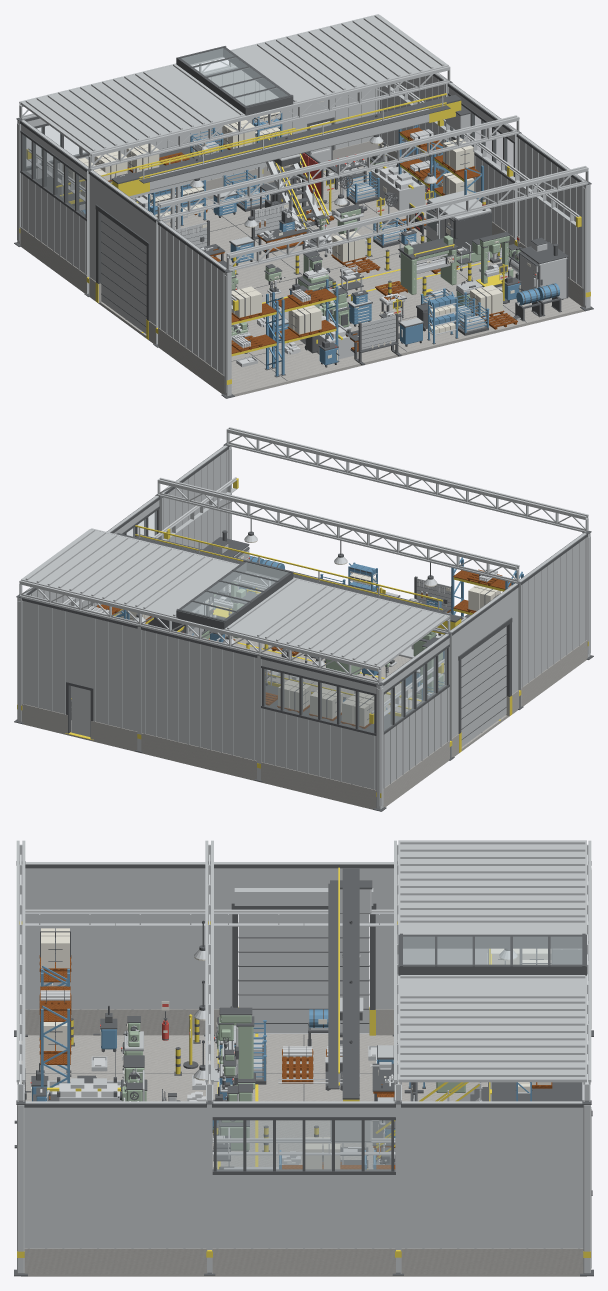
Rendered from machine_shop.glb.
The picture shows the model from 3 angles, top to bottom: view 1: azimuth 30°, elevation 25°; view 2: azimuth 150°, elevation 25°; view 3: azimuth 270°, elevation 25°; orthographic projection. The views are drawn at different scales.
Visible parts, largest first — view 1: 040-machine-shop-and-factory-hall-hall-roof-bay/0, 042-machine-shop-and-factory-hall-hall-roof-bay/0, 014-machine-shop-and-factory-hall-hall-wall-bay/0, 017-machine-shop-and-factory-hall-hall-wall-bay/0, 041-machine-shop-and-factory-hall-hall-skylight-bay/0, 013-machine-shop-and-factory-hall-hall-shutter-bay/shutter/c (×2), 012-machine-shop-and-factory-hall-hall-window-bay/0, 052-machine-shop-and-factory-hall-gantry-crane-bridge/1, 002-machine-shop-and-factory-hall-floor-tile-plain/0, 052-machine-shop-and-factory-hall-gantry-crane-bridge/0, 013-machine-shop-and-factory-hall-hall-shutter-bay/0, 004-machine-shop-and-factory-hall-floor-tile-marked/0 (+62 smaller); view 2: 010-machine-shop-and-factory-hall-hall-wall-bay/0, 011-machine-shop-and-factory-hall-hall-door-bay/0, 040-machine-shop-and-factory-hall-hall-roof-bay/0, 042-machine-shop-and-factory-hall-hall-roof-bay/0, 009-machine-shop-and-factory-hall-hall-window-bay/0, 014-machine-shop-and-factory-hall-hall-wall-bay/0, 041-machine-shop-and-factory-hall-hall-skylight-bay/0, 013-machine-shop-and-factory-hall-hall-shutter-bay/shutter/c (×2), 012-machine-shop-and-factory-hall-hall-window-bay/0, 009-machine-shop-and-factory-hall-hall-window-bay/2, 017-machine-shop-and-factory-hall-hall-wall-bay/0, 013-machine-shop-and-factory-hall-hall-shutter-bay/0 (+38 smaller); view 3: 015-machine-shop-and-factory-hall-hall-wall-bay/0, 017-machine-shop-and-factory-hall-hall-wall-bay/0, 014-machine-shop-and-factory-hall-hall-wall-bay/0, 016-machine-shop-and-factory-hall-hall-window-bay/0, 042-machine-shop-and-factory-hall-hall-roof-bay/0, 040-machine-shop-and-factory-hall-hall-roof-bay/0, 013-machine-shop-and-factory-hall-hall-shutter-bay/shutter/c (×2), 013-machine-shop-and-factory-hall-hall-shutter-bay/0, 016-machine-shop-and-factory-hall-hall-window-bay/2, 041-machine-shop-and-factory-hall-hall-skylight-bay/0, 052-machine-shop-and-factory-hall-gantry-crane-bridge/1, 002-machine-shop-and-factory-hall-floor-tile-plain/0 (+42 smaller).
Part boxes in pixels (left/top/right/bottom): 040-machine-shop-and-factory-hall-hall-roof-bay/0: left=21, top=73, right=209, bottom=154; 042-machine-shop-and-factory-hall-hall-roof-bay/0: left=260, top=15, right=448, bottom=95; 014-machine-shop-and-factory-hall-hall-wall-bay/0: left=158, top=221, right=226, bottom=375; 017-machine-shop-and-factory-hall-hall-wall-bay/0: left=517, top=133, right=583, bottom=287; 041-machine-shop-and-factory-hall-hall-skylight-bay/0: left=141, top=43, right=329, bottom=124; 013-machine-shop-and-factory-hall-hall-shutter-bay/shutter/c (×2): left=101, top=213, right=146, bottom=333; 012-machine-shop-and-factory-hall-hall-window-bay/0: left=21, top=120, right=88, bottom=274; 052-machine-shop-and-factory-hall-gantry-crane-bridge/1: left=111, top=94, right=471, bottom=184; 002-machine-shop-and-factory-hall-floor-tile-plain/0: left=159, top=316, right=347, bottom=396; 052-machine-shop-and-factory-hall-gantry-crane-bridge/0: left=142, top=96, right=470, bottom=190; 013-machine-shop-and-factory-hall-hall-shutter-bay/0: left=89, top=170, right=157, bottom=325; 004-machine-shop-and-factory-hall-floor-tile-marked/0: left=226, top=238, right=396, bottom=315; 010-machine-shop-and-factory-hall-hall-wall-bay/0: left=141, top=630, right=256, bottom=760; 011-machine-shop-and-factory-hall-hall-door-bay/0: left=22, top=601, right=137, bottom=731; 040-machine-shop-and-factory-hall-hall-roof-bay/0: left=260, top=587, right=448, bottom=668; 042-machine-shop-and-factory-hall-hall-roof-bay/0: left=21, top=529, right=209, bottom=609; 009-machine-shop-and-factory-hall-hall-window-bay/0: left=261, top=659, right=376, bottom=789; 014-machine-shop-and-factory-hall-hall-wall-bay/0: left=519, top=533, right=586, bottom=687; 041-machine-shop-and-factory-hall-hall-skylight-bay/0: left=140, top=557, right=328, bottom=638; 013-machine-shop-and-factory-hall-hall-shutter-bay/shutter/c (×2): left=461, top=626, right=506, bottom=746; 012-machine-shop-and-factory-hall-hall-window-bay/0: left=381, top=634, right=449, bottom=788; 009-machine-shop-and-factory-hall-hall-window-bay/2: left=264, top=669, right=374, bottom=732; 017-machine-shop-and-factory-hall-hall-wall-bay/0: left=162, top=445, right=227, bottom=549; 013-machine-shop-and-factory-hall-hall-shutter-bay/0: left=450, top=583, right=518, bottom=738; 015-machine-shop-and-factory-hall-hall-wall-bay/0: left=401, top=1101, right=583, bottom=1248; 017-machine-shop-and-factory-hall-hall-wall-bay/0: left=24, top=1101, right=206, bottom=1248; 014-machine-shop-and-factory-hall-hall-wall-bay/0: left=25, top=862, right=205, bottom=1009; 016-machine-shop-and-factory-hall-hall-window-bay/0: left=212, top=1101, right=395, bottom=1248; 042-machine-shop-and-factory-hall-hall-roof-bay/0: left=398, top=999, right=586, bottom=1082; 040-machine-shop-and-factory-hall-hall-roof-bay/0: left=398, top=840, right=586, bottom=919; 013-machine-shop-and-factory-hall-hall-shutter-bay/shutter/c (×2): left=238, top=914, right=369, bottom=1033; 013-machine-shop-and-factory-hall-hall-shutter-bay/0: left=214, top=862, right=393, bottom=1009; 016-machine-shop-and-factory-hall-hall-window-bay/2: left=216, top=1120, right=391, bottom=1170; 041-machine-shop-and-factory-hall-hall-skylight-bay/0: left=398, top=919, right=586, bottom=999; 052-machine-shop-and-factory-hall-gantry-crane-bridge/1: left=328, top=868, right=372, bottom=1099; 002-machine-shop-and-factory-hall-floor-tile-plain/0: left=21, top=1035, right=208, bottom=1101.
Size of the model in its own units: 18.44 by 7.27 by 18.44.
Materials: 12 (2 with a texture image).
